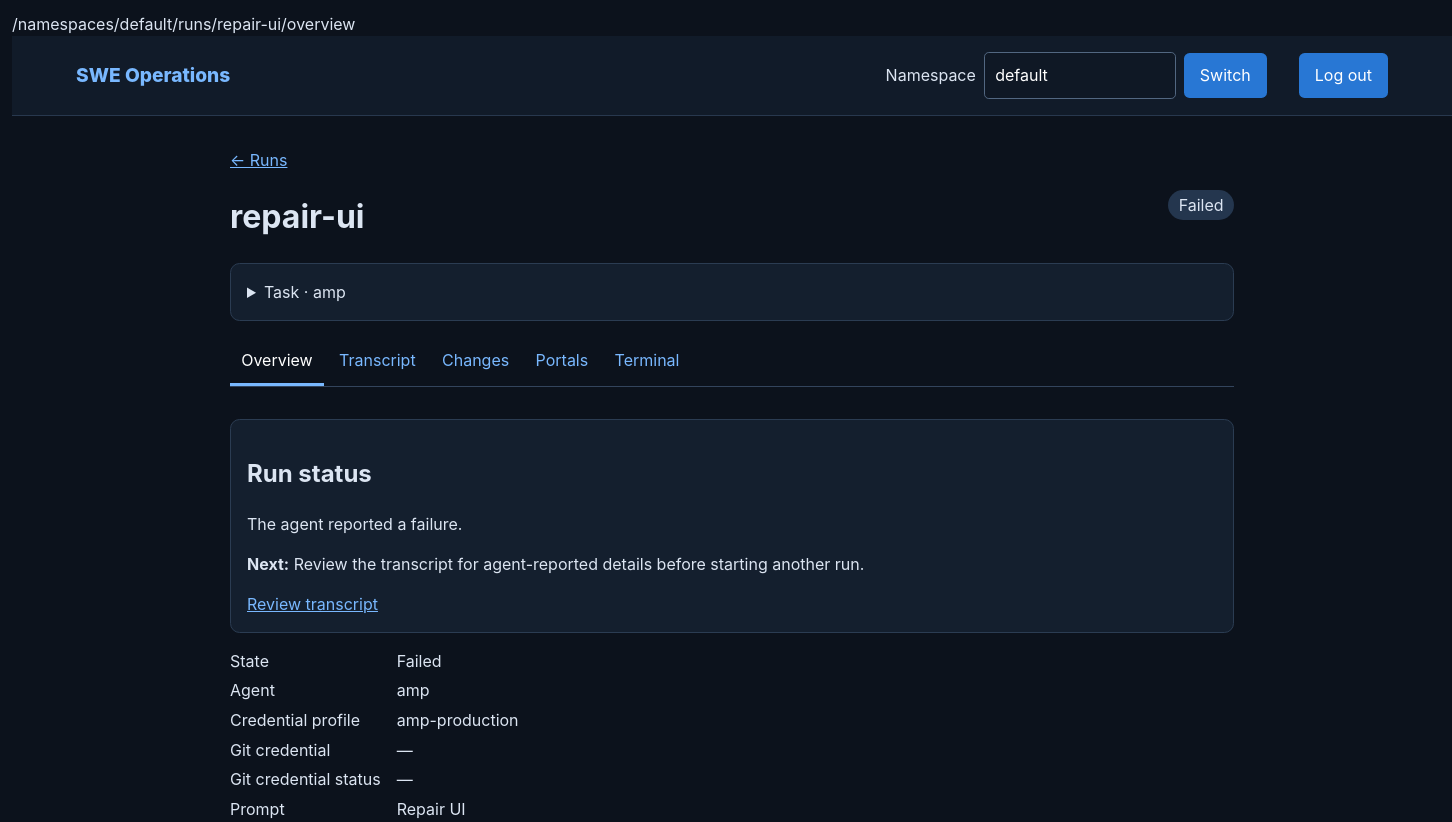
Test: App frozen API integration › shows Failed diagnosis and next action through exact Run context
The image size is (1452, 822).
Expected: the text "The agent reported a failure." is shown, [247,514,462,534]
Expected: the text "Review the transcript for agent-reported details before starting another run." is shown, [294,554,864,574]
Click the link "Review transcript": (312, 604) [247,594,378,614]
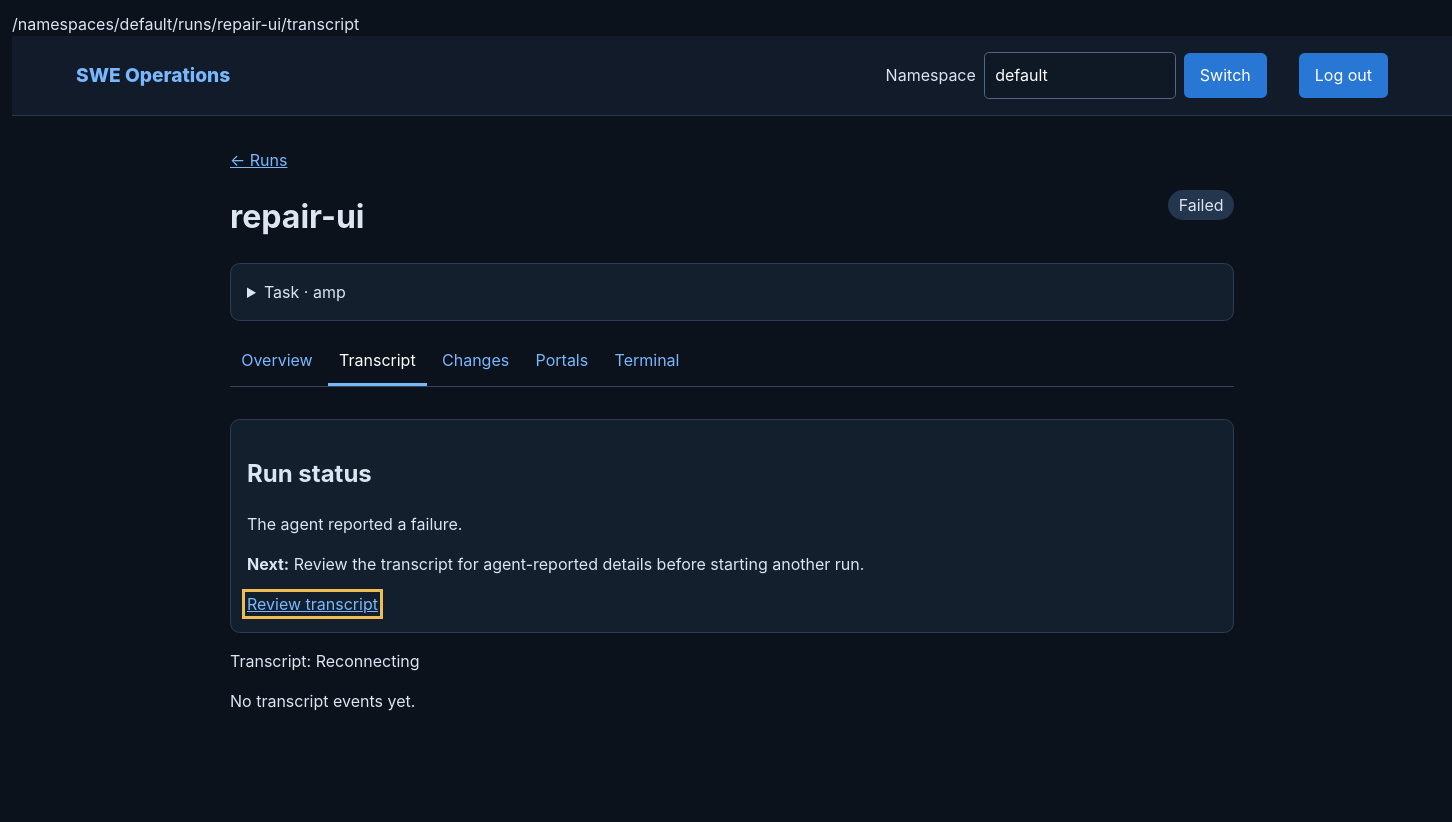
Expected: the text "The agent reported a failure." is shown, [247,514,462,534]
Expected: the text "No transcript events yet." is shown, [230,691,415,711]
Expected: the text with test id "location" reads "/namespaces/default/runs/repair-ui/transcript", [12,14,359,34]
Click the heading "Task · amp": (305, 292) [264,282,346,302]
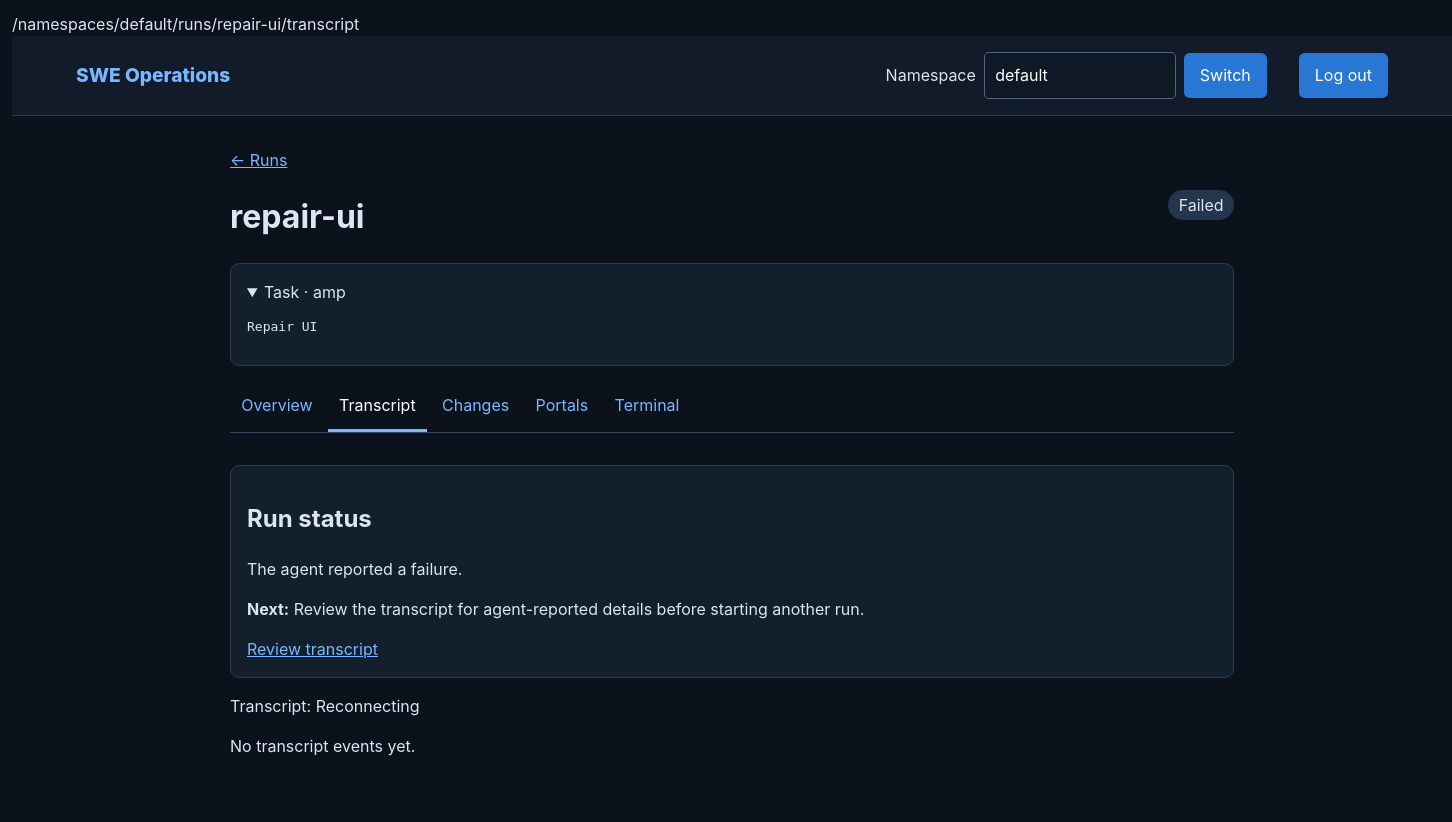
Expected: the link "Changes" is shown, [442,395,509,415]
Expected: the text "Repair UI" is shown, [247,319,318,334]
